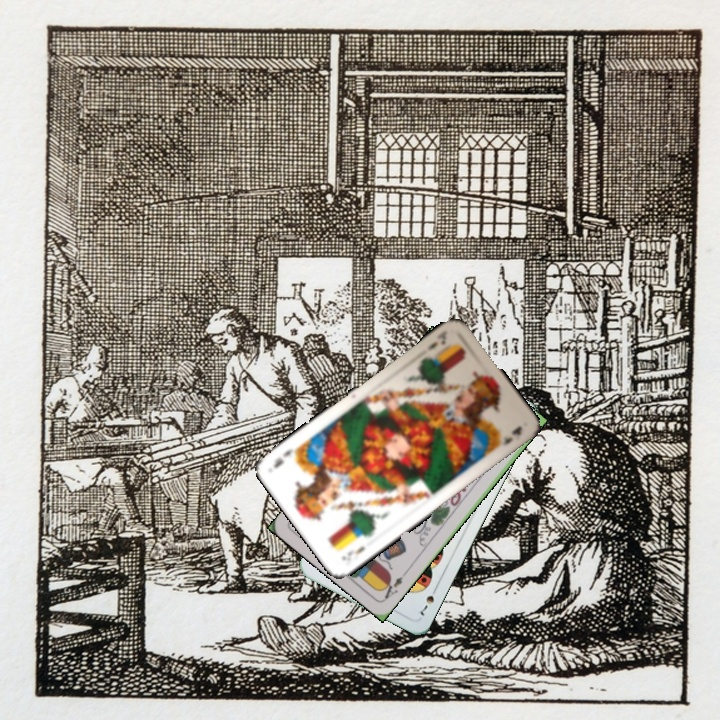EA: (376, 573, 405, 603)
EK: (423, 328, 450, 353), (337, 542, 367, 563)
S7: (416, 582, 440, 619)
